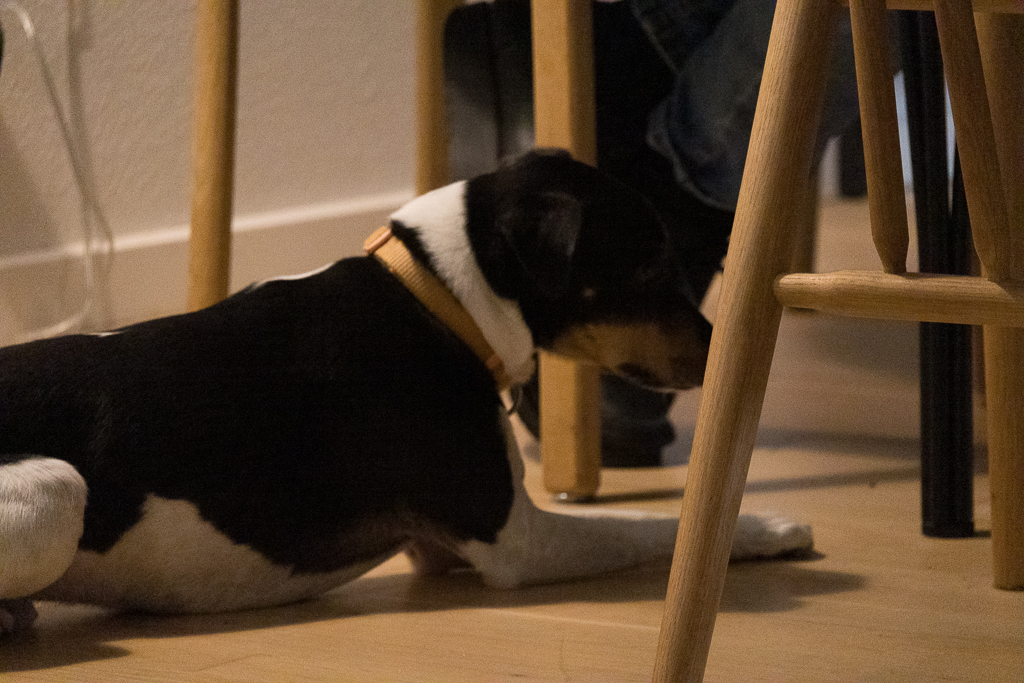Dog: (0, 138, 825, 664)
Humanoid: (493, 0, 947, 488)
